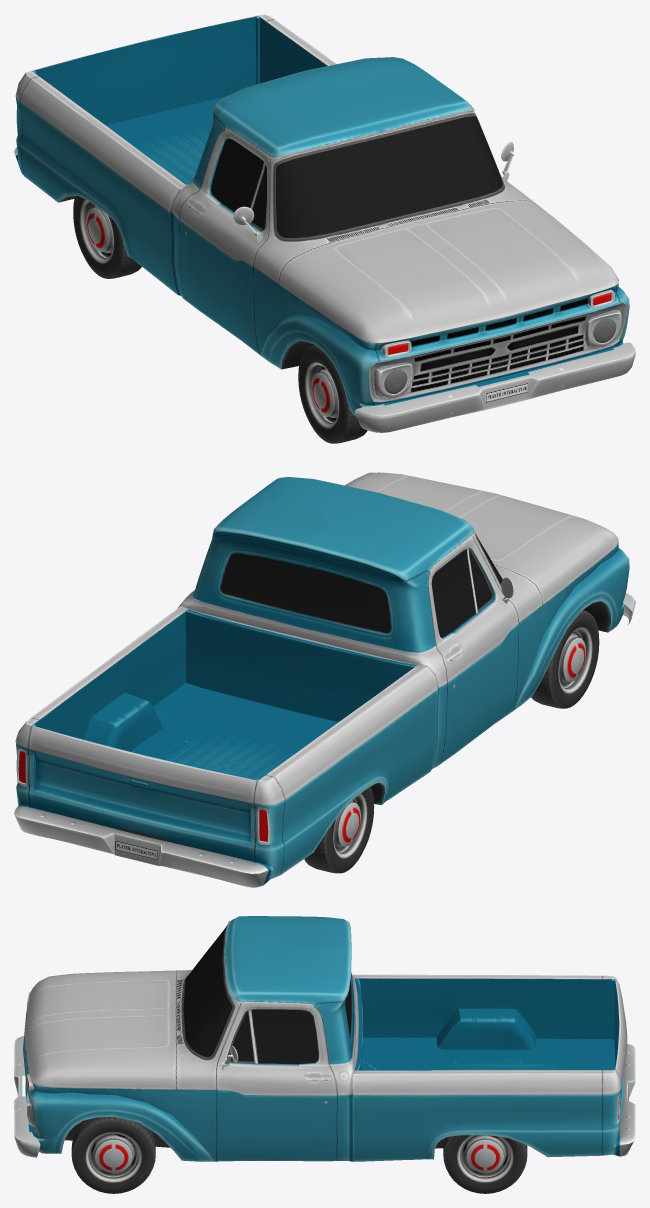
File: car 14.fbx
3 views of the same model, one above another, from view 1: azimuth 30°, elevation 25°; view 2: azimuth 150°, elevation 25°; view 3: azimuth 270°, elevation 25° (orthographic). The views are drawn at different scales.
Parts seen in each view (by area): view 1: body, t2, t4; view 2: body, t2, t4; view 3: body, t1, t3.
Part boxes in pixels (x1,y1,x2,y2): body: [14, 14, 635, 432]; t2: [298, 344, 367, 443]; t4: [73, 196, 141, 278]; body: [14, 472, 635, 887]; t2: [531, 609, 599, 708]; t4: [304, 786, 374, 873]; body: [14, 916, 635, 1161]; t1: [71, 1117, 155, 1193]; t3: [443, 1135, 527, 1193].
Size of the model in its own units: 226 by 184 by 526.
Materials: 2 (2 with a texture image).
